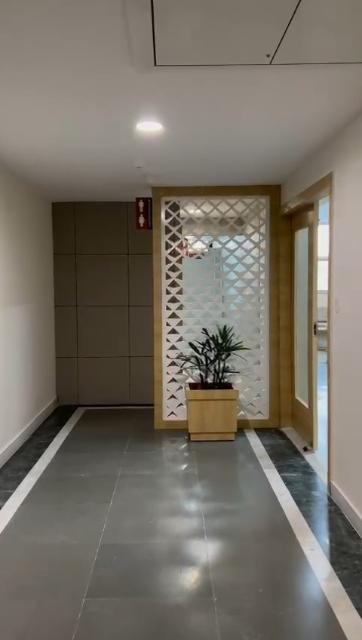door: (272, 194, 326, 452)
floor: (0, 402, 362, 640)
object: (180, 324, 246, 444)
wall: (0, 152, 56, 422), (325, 131, 362, 484)
